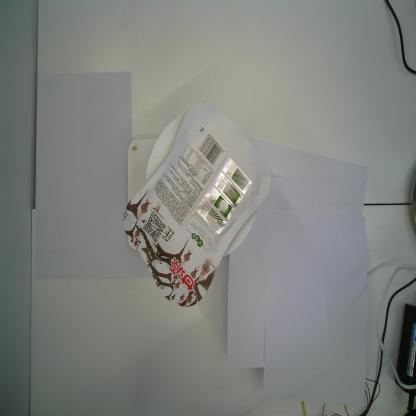Dried Fruit: (121, 101, 272, 309)
